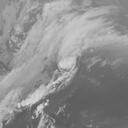cyclone: (38, 32, 84, 97)
